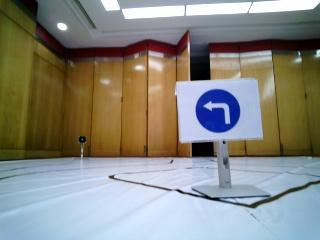left: (176, 86, 252, 134)
